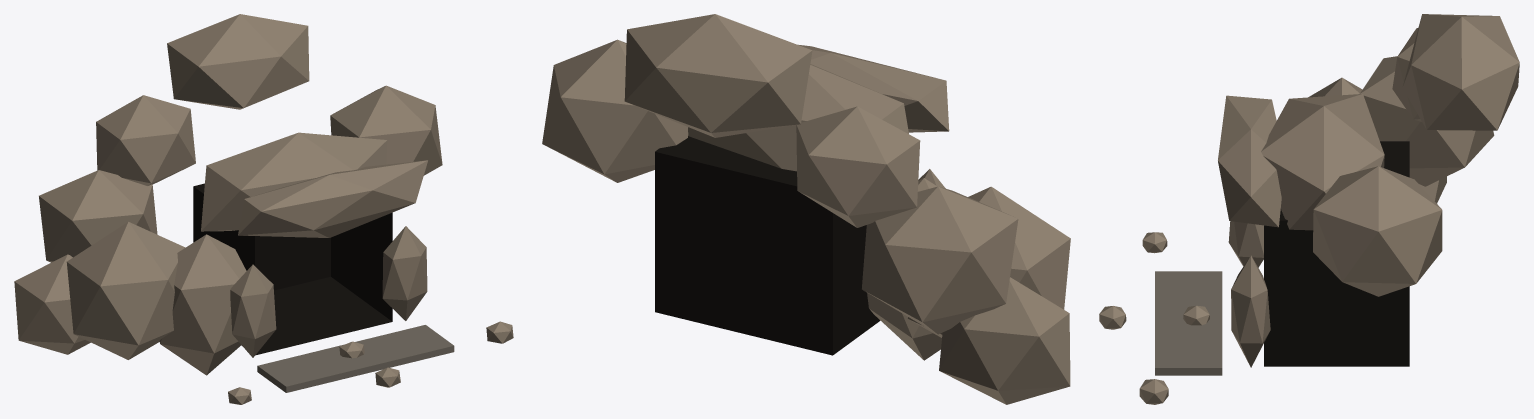
Rendered from tambotoco_cave_lod1.glb.
3 renders of one model, left to right at view 1: azimuth 30°, elevation 25°; view 2: azimuth 150°, elevation 25°; view 3: azimuth 270°, elevation 25°, orthographic. The views are drawn at different scales.
Visible parts, largest first — view 1: tambotoco_cave; view 2: tambotoco_cave; view 3: tambotoco_cave.
Boxes of the visible parts, left/top/right/bottom form: tambotoco_cave: left=14, top=14, right=513, bottom=404; tambotoco_cave: left=542, top=14, right=1070, bottom=404; tambotoco_cave: left=1099, top=14, right=1519, bottom=404.
Bounding box in the file's own units: 10.68 × 7.28 × 8.09.
